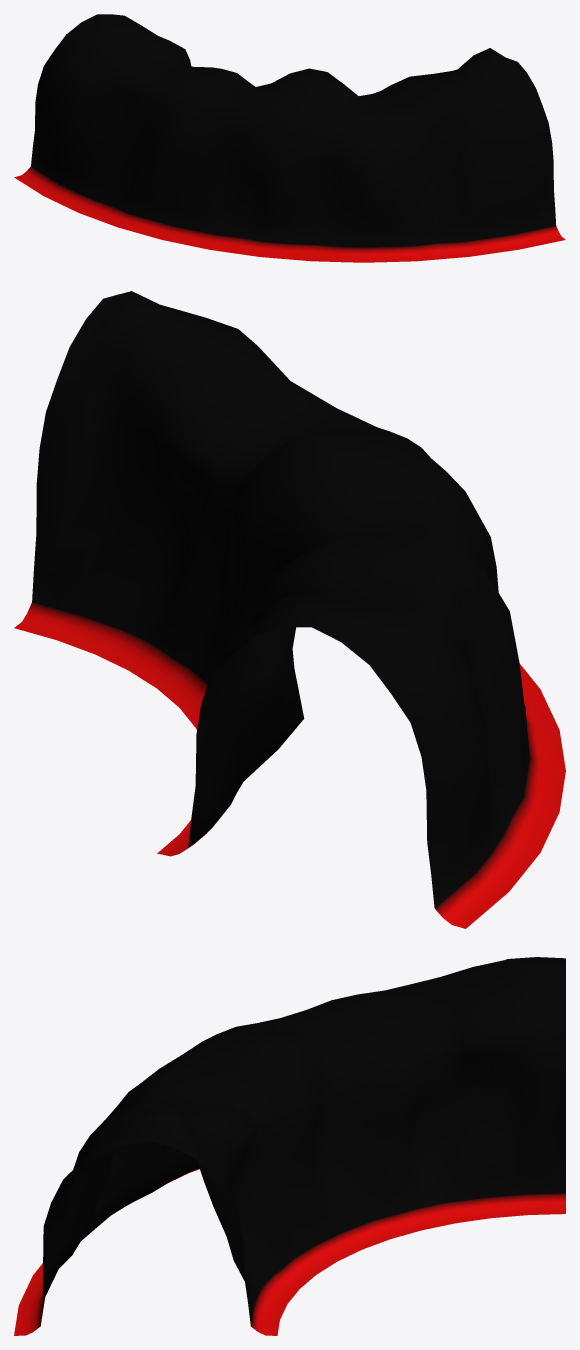
The model's file is GroundObject05A.fbx.
3 views of the same model, one above another, from view 1: azimuth 30°, elevation 25°; view 2: azimuth 150°, elevation 25°; view 3: azimuth 270°, elevation 25° (orthographic). The views are drawn at different scales.
Parts seen in each view (by area): view 1: GroundObject05A; view 2: GroundObject05A; view 3: GroundObject05A.
Boxes of the visible parts, x1,y1,x2,y2 form: GroundObject05A: (14, 14, 565, 262); GroundObject05A: (14, 291, 565, 928); GroundObject05A: (14, 957, 565, 1335).
Bounding box in the file's own units: 2.63 × 1.09 × 2.63.
